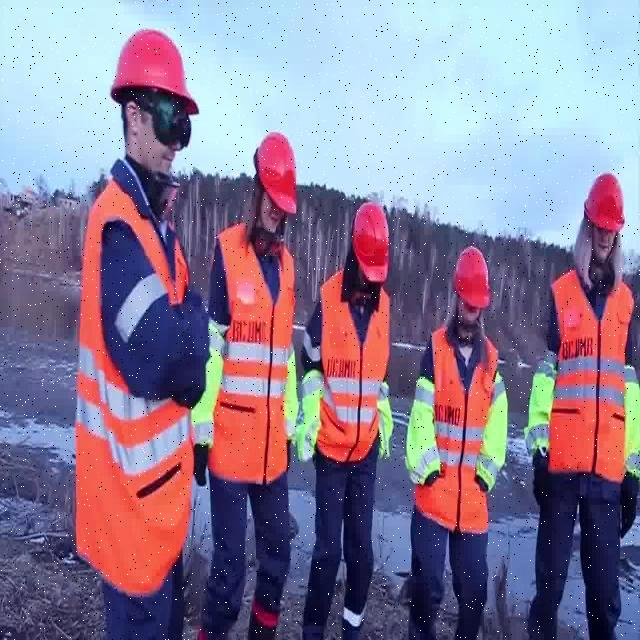Hard_hat: (105, 25, 207, 114), (251, 133, 306, 218), (342, 204, 395, 287), (574, 173, 635, 235), (447, 245, 503, 311)
Vest: (81, 188, 196, 589), (207, 227, 296, 484), (540, 266, 638, 481), (419, 325, 503, 525), (315, 267, 396, 467)
